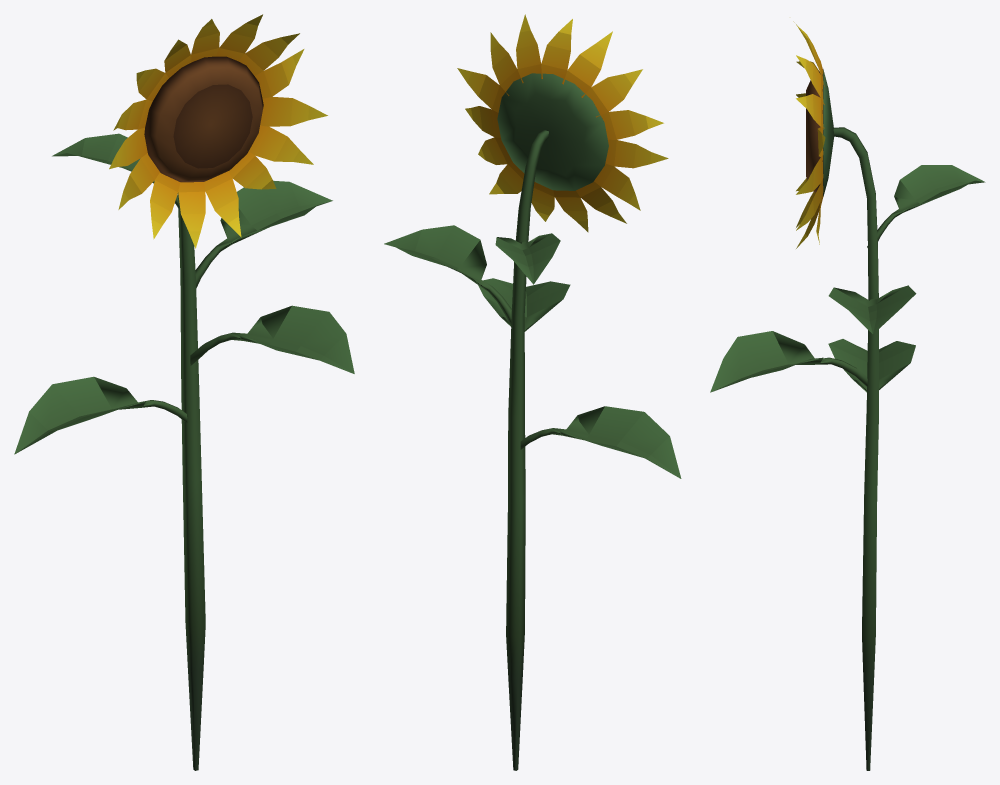
Rendered from plants-flowers-sunflower_v2.fbx.
3 renders of one model, left to right at view 1: azimuth 30°, elevation 25°; view 2: azimuth 150°, elevation 25°; view 3: azimuth 270°, elevation 25°, orthographic. The views are drawn at different scales.
Visible parts, largest first — view 1: Sunflower_v2; view 2: Sunflower_v2; view 3: Sunflower_v2.
Boxes of the visible parts, x1,y1,x2,y2 form: Sunflower_v2: (14,14,354,770); Sunflower_v2: (384,14,681,770); Sunflower_v2: (710,21,985,770).
Bounding box in the file's own units: 0.8524 × 2 × 0.6797.
